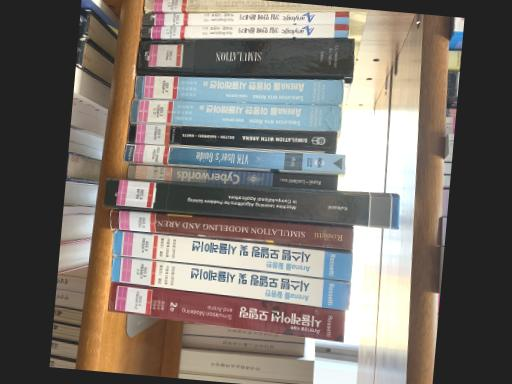book-spine: (103, 178, 399, 228), (107, 282, 344, 342), (110, 256, 349, 310), (111, 231, 351, 280), (110, 210, 352, 249), (136, 40, 353, 76), (127, 98, 340, 130), (122, 144, 345, 172), (126, 124, 336, 153), (133, 76, 342, 104), (126, 164, 337, 189), (140, 25, 348, 37), (142, 12, 348, 24), (143, 0, 366, 10)
